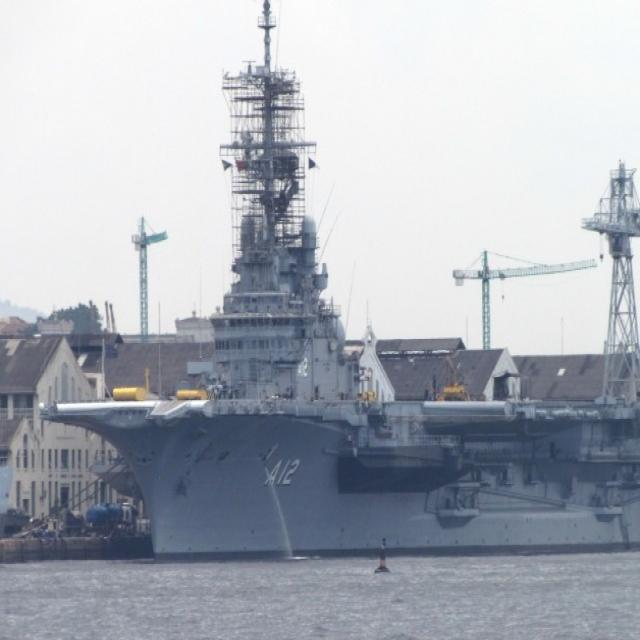Portanaves: (38, 1, 640, 566)
